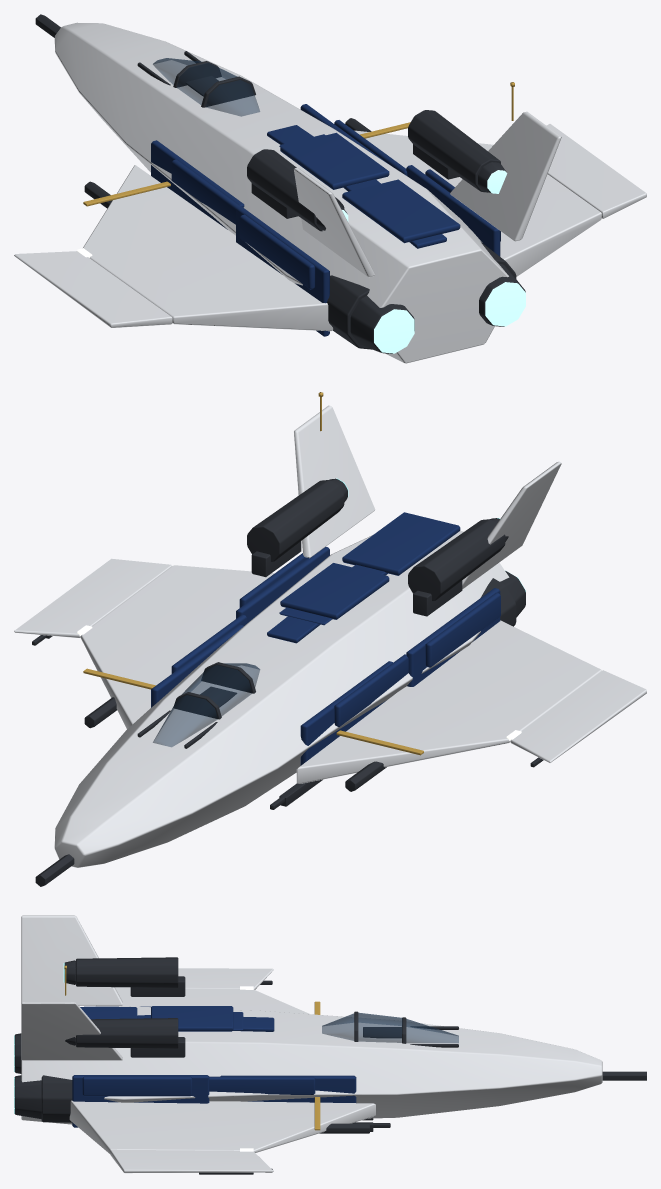
The model's file is bulwark.glb.
The picture shows the model from 3 angles, top to bottom: view 1: azimuth 30°, elevation 25°; view 2: azimuth 150°, elevation 25°; view 3: azimuth 270°, elevation 25°; orthographic projection. The views are drawn at different scales.
Parts seen in each view (by area): view 1: hull, wing_L, T1_dorsal_armor, tail_fin_R, wing_R, T3_wing_extension_L, T2_booster_pod_R, T3_wing_extension_R, T1_shoulder_armor_L, canopy_glass, tail_fin_L, engine_L (+10 smaller); view 2: hull, wing_L, wing_R, T1_dorsal_armor, tail_fin_R, T3_wing_extension_L, T3_wing_extension_R, T2_booster_pod_R, T2_booster_pod_L, canopy_glass, T1_shoulder_armor_L, shoulder_plate_L (+6 smaller); view 3: hull, wing_R, tail_fin_L, tail_fin_R, T1_shoulder_armor_R, T2_booster_pod_L, T2_booster_pod_R, T3_wing_extension_R, shoulder_plate_R, canopy_glass, wing_L, T1_dorsal_armor (+7 smaller).
Part boxes in pixels (<box>): hull: <box>54,22,508,363</box>; wing_L: <box>83,165,333,331</box>; T1_dorsal_armor: <box>280,132,460,243</box>; tail_fin_R: <box>450,111,561,241</box>; wing_R: <box>354,130,601,276</box>; T3_wing_extension_L: <box>14,251,172,327</box>; T2_booster_pod_R: <box>408,110,506,193</box>; T3_wing_extension_R: <box>546,124,646,218</box>; T1_shoulder_armor_L: <box>171,159,315,289</box>; canopy_glass: <box>153,58,259,116</box>; tail_fin_L: <box>294,168,375,277</box>; engine_L: <box>327,275,414,353</box>; hull: <box>54,530,509,867</box>; wing_L: <box>296,620,601,783</box>; wing_R: <box>80,565,274,728</box>; T1_dorsal_armor: <box>280,512,460,619</box>; tail_fin_R: <box>294,405,375,558</box>; T3_wing_extension_L: <box>510,670,646,762</box>; T3_wing_extension_R: <box>14,558,172,637</box>; T2_booster_pod_R: <box>247,478,347,577</box>; T2_booster_pod_L: <box>408,518,508,616</box>; canopy_glass: <box>153,663,260,747</box>; T1_shoulder_armor_L: <box>334,593,500,727</box>; shoulder_plate_L: <box>300,588,500,765</box>; hull: <box>21,1006,602,1124</box>; wing_R: <box>69,1100,375,1153</box>; tail_fin_L: <box>21,915,122,1005</box>; tail_fin_R: <box>21,1002,122,1060</box>; T1_shoulder_armor_R: <box>82,1076,315,1096</box>; T2_booster_pod_L: <box>64,957,185,996</box>; T2_booster_pod_R: <box>65,1018,185,1057</box>; T3_wing_extension_R: <box>110,1149,273,1173</box>; shoulder_plate_R: <box>72,1075,356,1127</box>; canopy_glass: <box>322,1012,458,1043</box>; wing_L: <box>96,988,309,1014</box>; T1_dorsal_armor: <box>80,1006,233,1031</box>.
Size of what is drawn, in the model's own units: 14 by 5.81 by 18.51.
